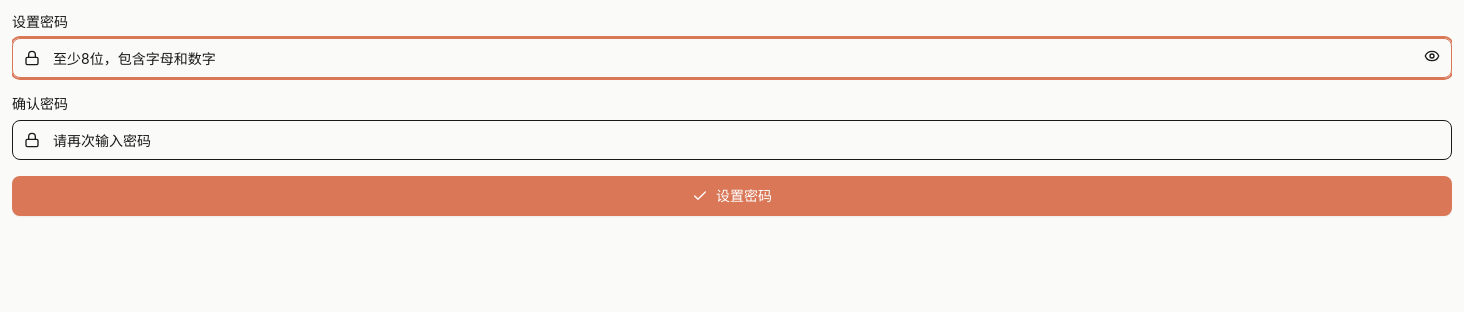
Scenario: SetPasswordForm 组件 › 密码缺少数字 - 显示错误
Step 1. Type "abcdefgh" into the password field with placeholder "至少8位，包含字母和数字" → (732, 58), box [12, 38, 1452, 78]
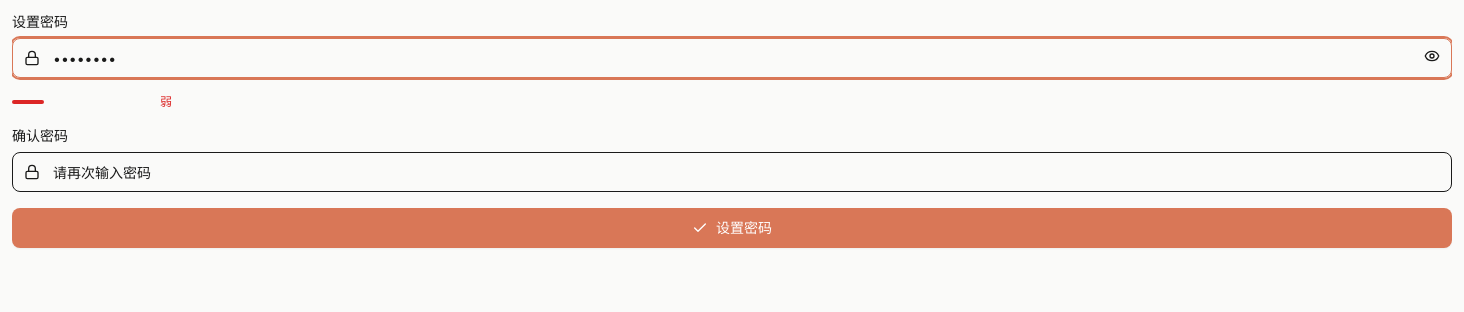
Step 2. Click the button "设置密码" → (732, 228), box [12, 208, 1452, 248]
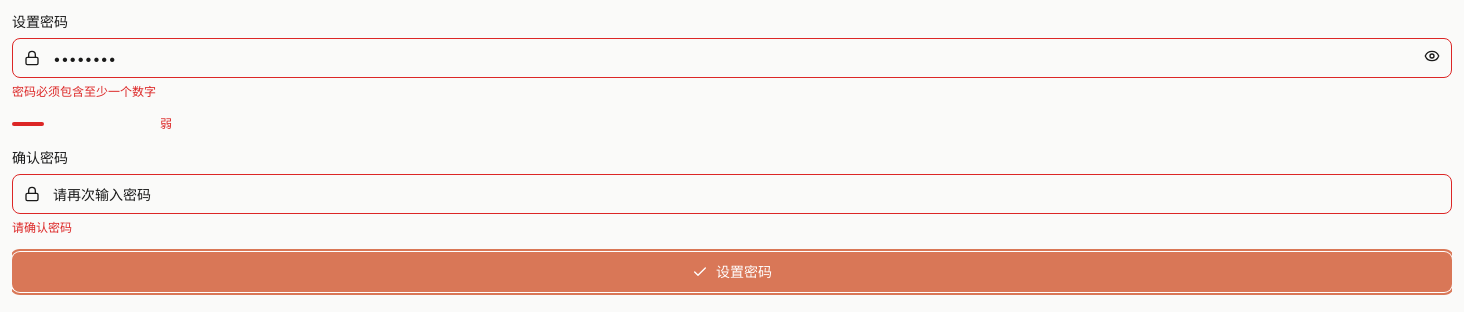
Now the text "密码必须包含至少一个数字" is shown, box [12, 84, 156, 99]
